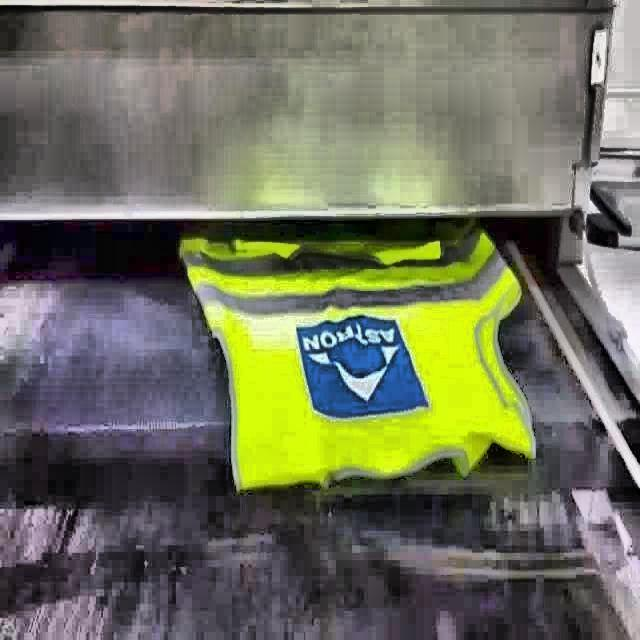safety_jacket: (177, 231, 538, 494)
